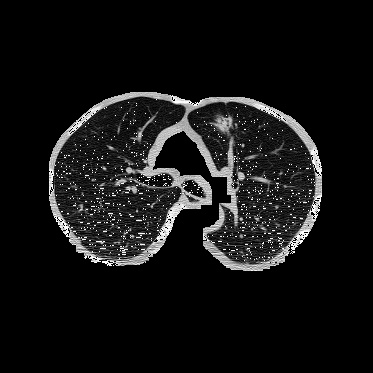PN: (217, 112, 239, 134)
